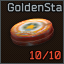Golden Star balm: (0, 0, 64, 64)
